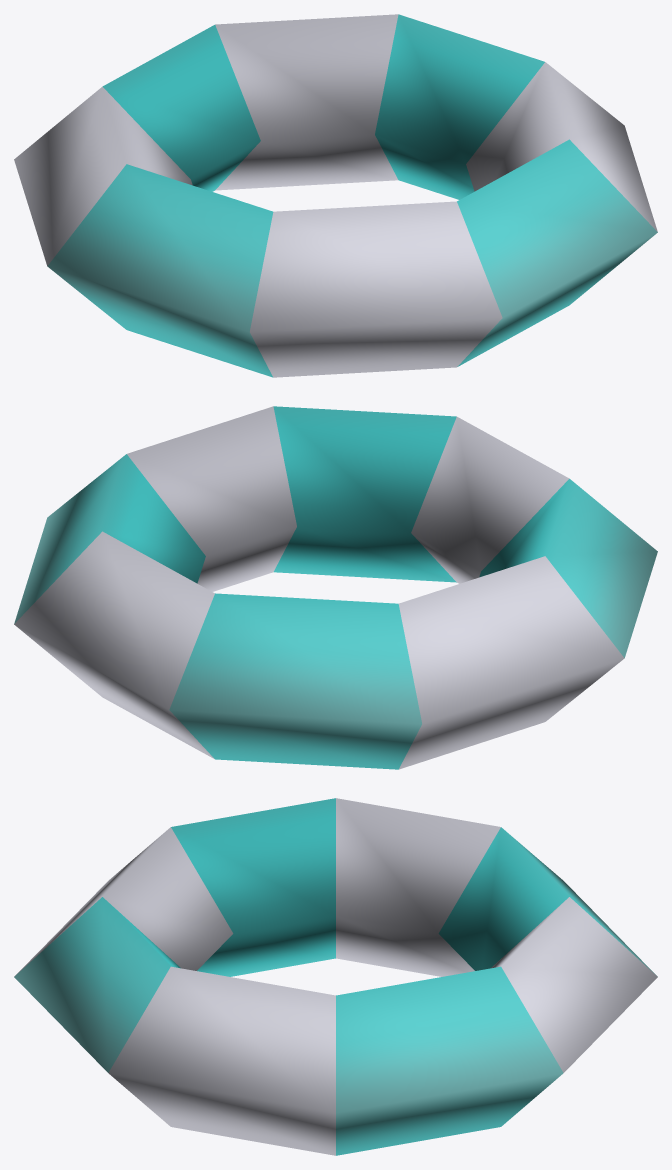
File: RubbeRing_04.fbx
3 views of the same model, one above another, from view 1: azimuth 30°, elevation 25°; view 2: azimuth 150°, elevation 25°; view 3: azimuth 270°, elevation 25° (orthographic). The views are drawn at different scales.
Visible parts, largest first — view 1: RubbeRing_04; view 2: RubbeRing_04; view 3: RubbeRing_04.
Boxes of the visible parts, bbox=[...] form: RubbeRing_04: bbox=[14, 14, 657, 377]; RubbeRing_04: bbox=[14, 406, 657, 769]; RubbeRing_04: bbox=[14, 798, 657, 1155].
Size of the model in its own units: 0.17 by 0.0467 by 0.17.
